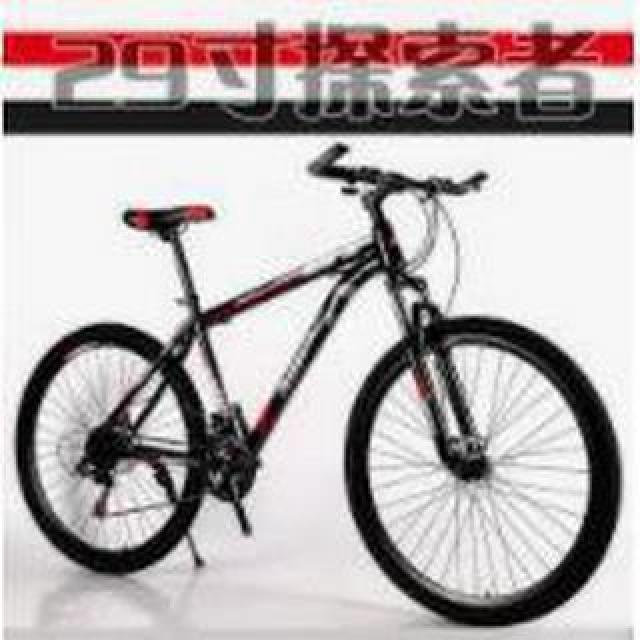Person: (10, 142, 626, 636)
